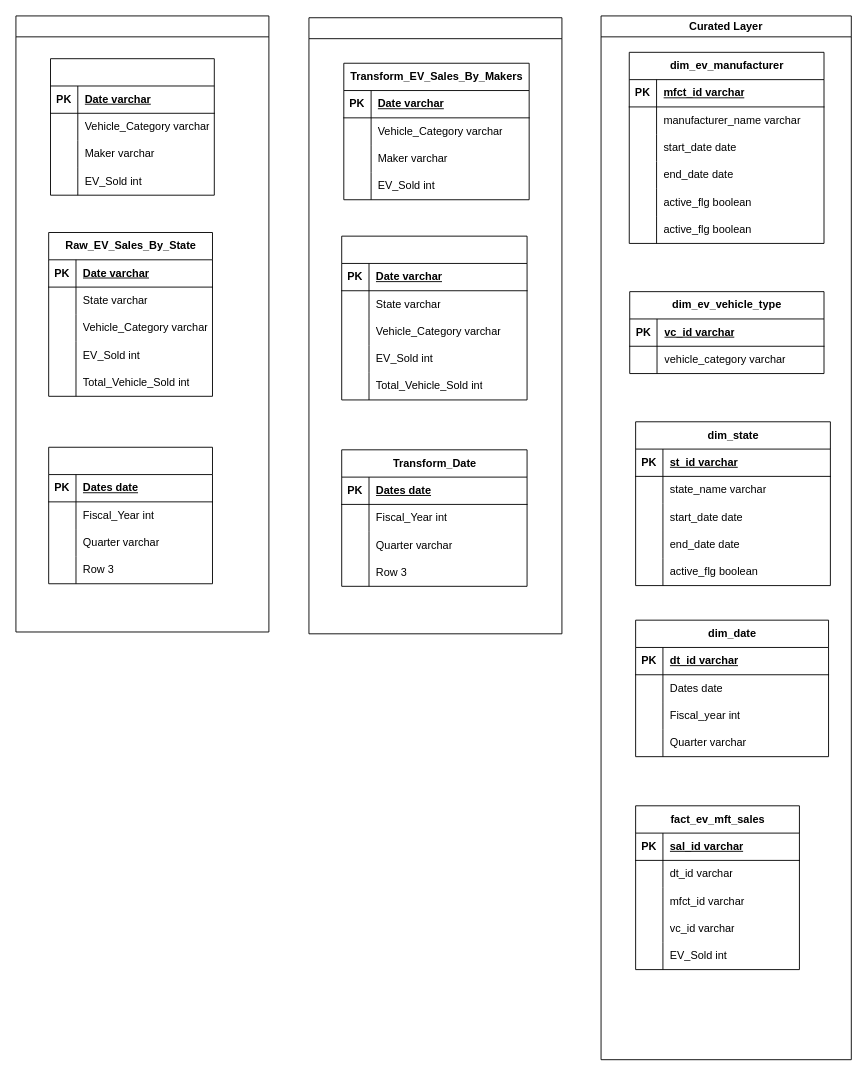
Some shapes in this 867 by 1076 pixel diagram are drawn without their labels. The shapes that lost their labels are listed below. From the top down, each one's box as (x1, y1, x2, y2) in pixels, then its label:
(50, 58, 214, 195): Raw_EV_Sales_By_Makers
(15, 15, 269, 632): Staging Layer
(341, 235, 527, 400): Transform_EV_Sales_By_State
(308, 17, 562, 634): Transform Layer
(48, 446, 212, 584): Raw_Date
